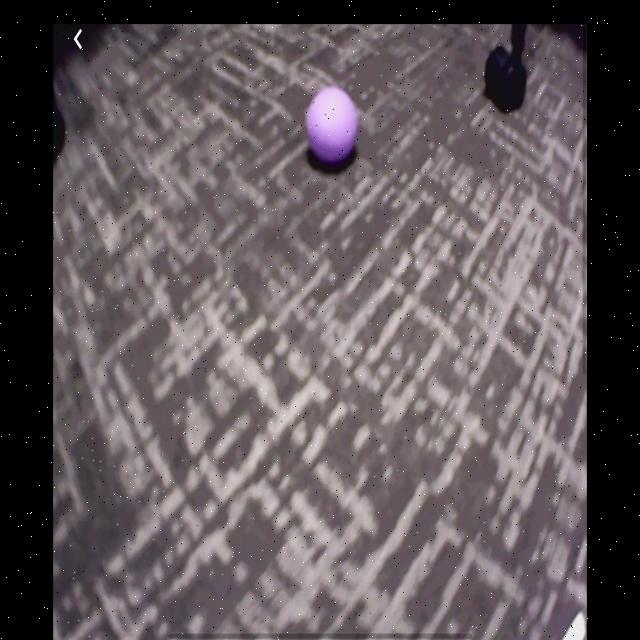ball: (307, 88, 358, 168)
